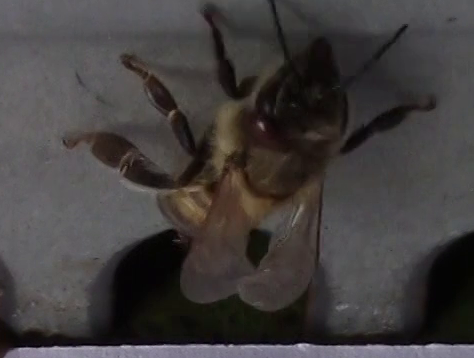Varroa destructor: (244, 109, 288, 152)
